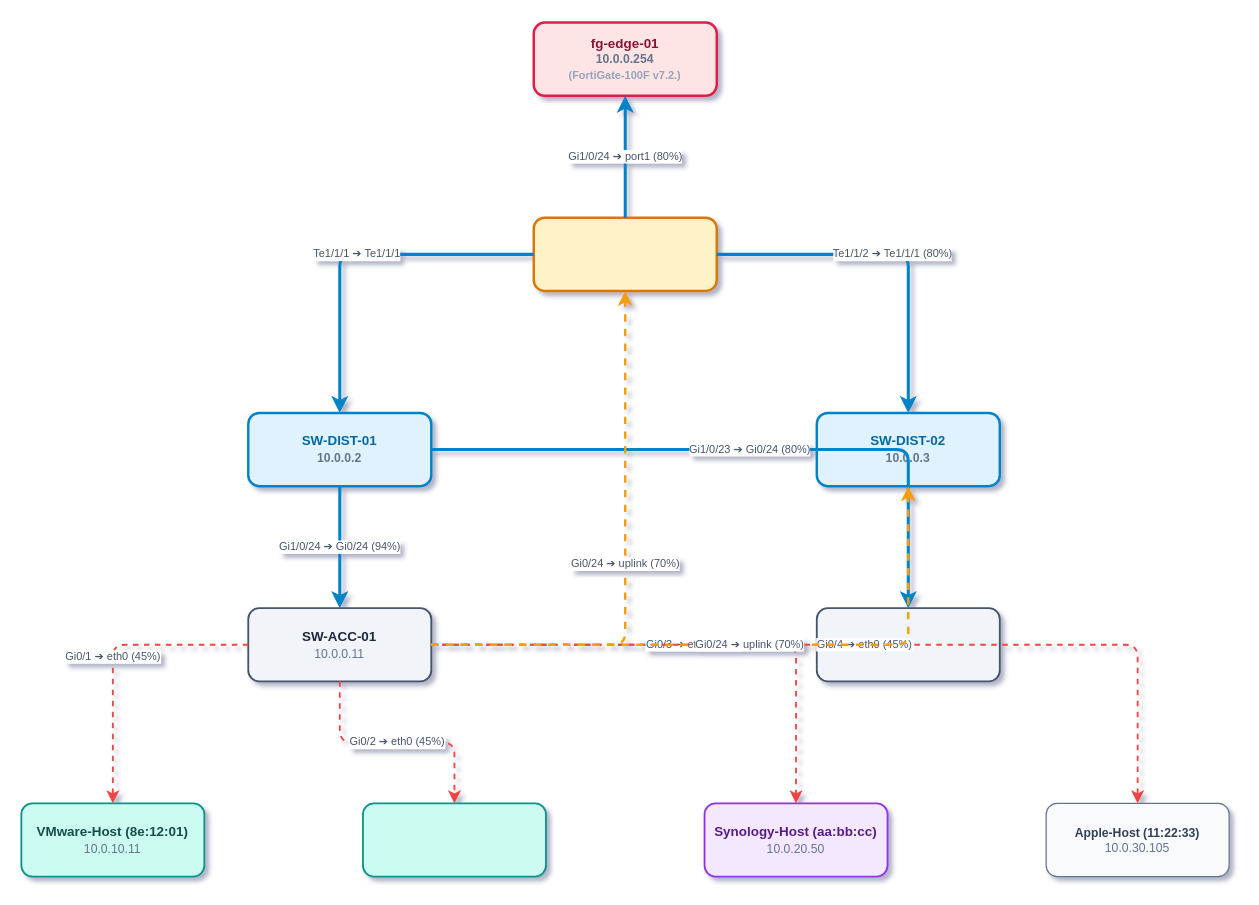
This 1259x905 diagram has some shape labels left out. The shapes that lost their labels are listed below. From the top down, each one's centre as x and y in pixels, then its label:
At point (624, 254): "SW-CORE-01 10.0.0.1".
At point (907, 644): "sw-acc-02 10.0.0.12 (Cisco Catalyst 9200L)".
At point (453, 839): "VMware-Host (8e:12:02) 10.0.10.12".
